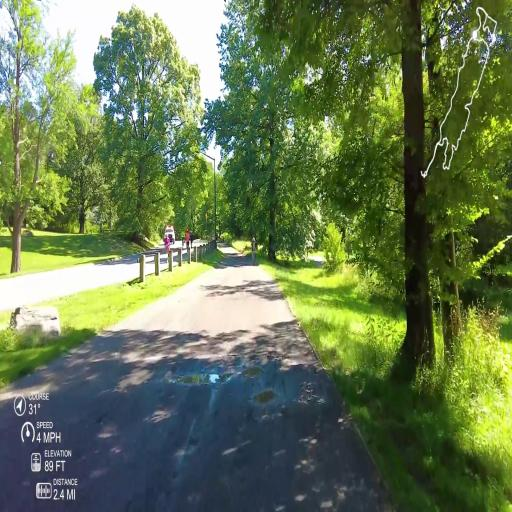Street_Light: (192, 146, 220, 250)
